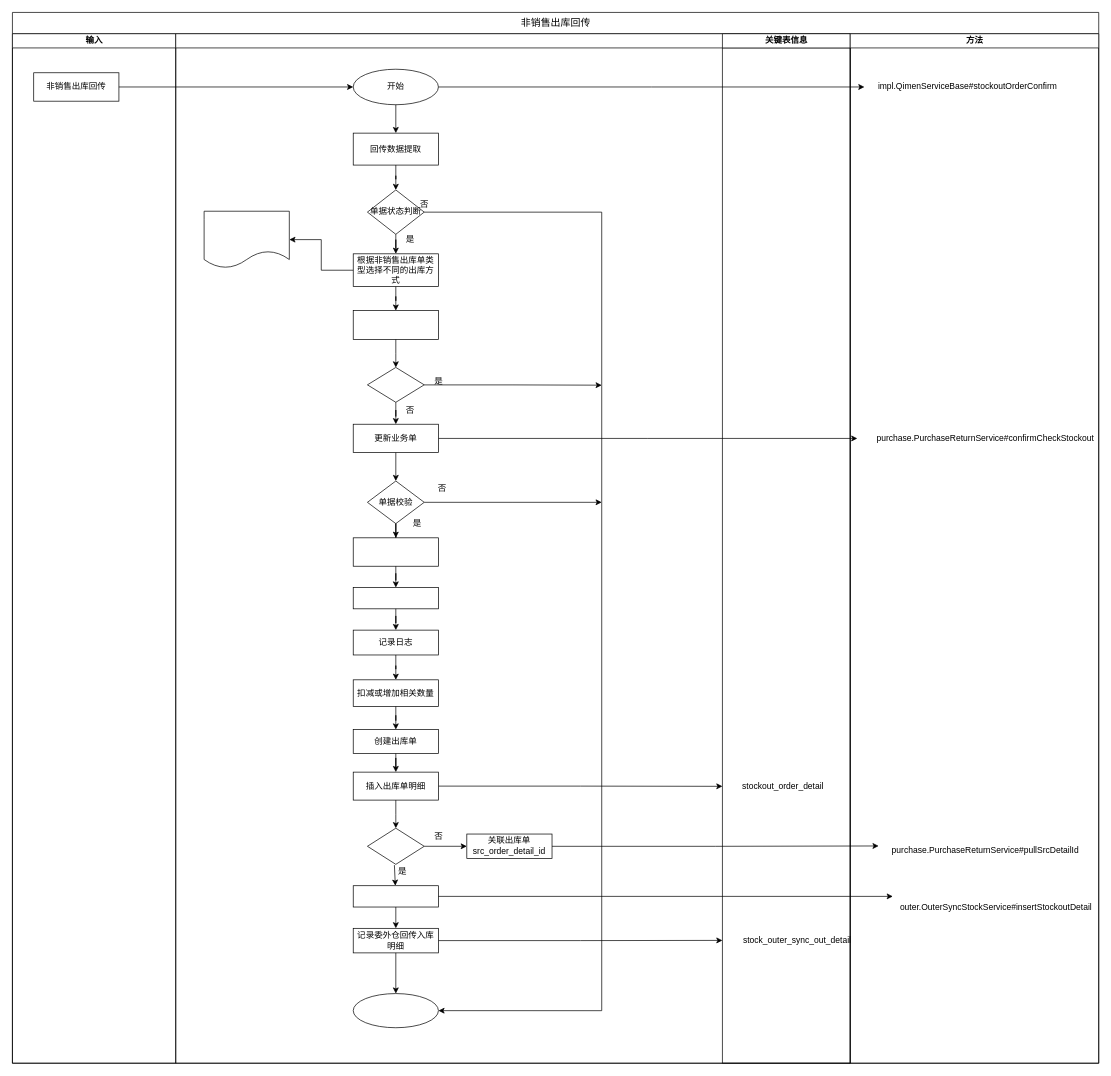
This 1111x1076 diagram has some shape labels left out. The shapes that lost their labels are listed below. From the top down, each one's centre as x and y in pixels, then its label:
At point (246, 239): "采购，调拨，其他，生产，JIT，默认为其他出库".
At point (395, 324): "构造出库单".
At point (395, 384): "外部单号是否已存在".
At point (395, 551): "更新相关业务单状态".
At point (395, 598): "保存出库数量".
At point (395, 846): "是否绑定出库单明细".
At point (395, 896): "执行出库".
At point (395, 1010): "结束".
